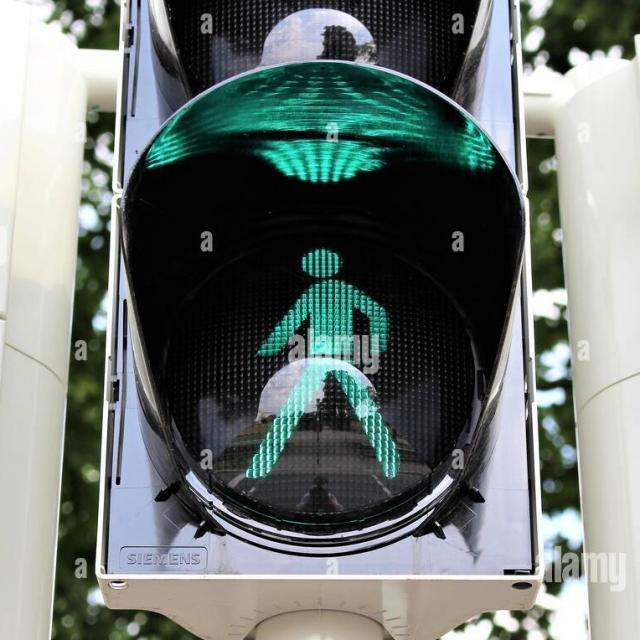geen-crossing: (259, 233, 406, 492)
